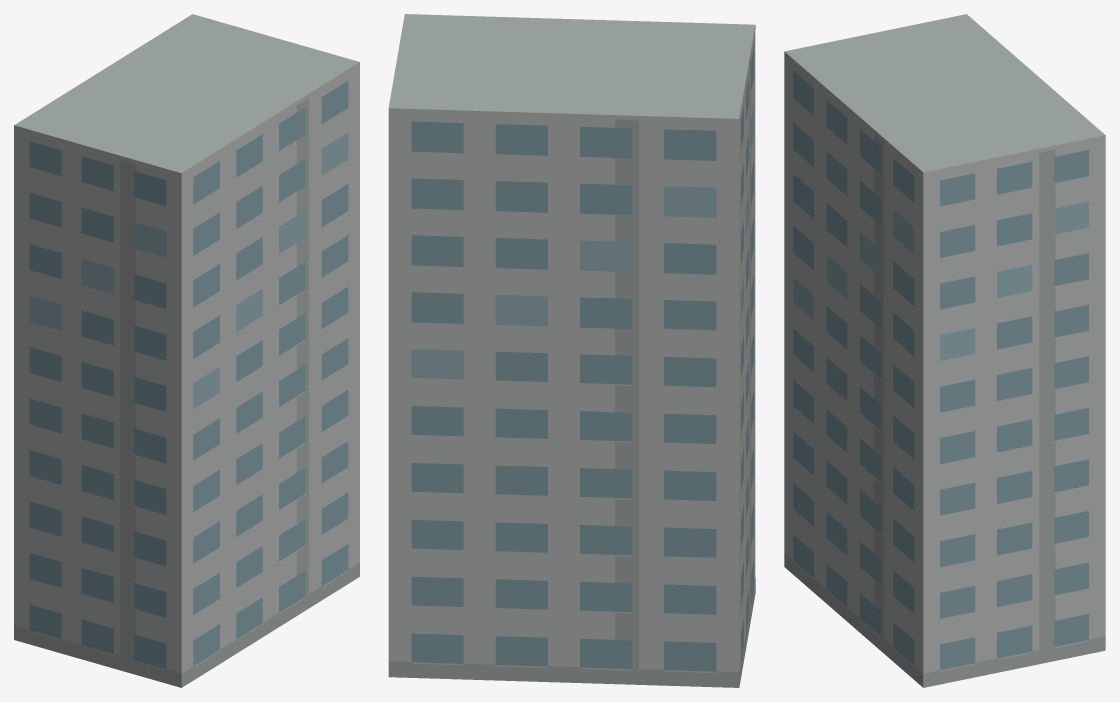
The model's file is residential-28146df2-0026-4000-a618-06c00b364e9a.glb.
The picture shows the model from 3 angles, left to right: view 1: azimuth 30°, elevation 25°; view 2: azimuth 150°, elevation 25°; view 3: azimuth 270°, elevation 25°; orthographic projection. The views are drawn at different scales.
Parts seen in each view (by area): view 1: residential-28146df2-0026-4000-a618-06c00b364e9a.tmp; view 2: residential-28146df2-0026-4000-a618-06c00b364e9a.tmp; view 3: residential-28146df2-0026-4000-a618-06c00b364e9a.tmp.
Boxes of the visible parts, x1,y1,x2,y2 form: residential-28146df2-0026-4000-a618-06c00b364e9a.tmp: (14,14,359,687); residential-28146df2-0026-4000-a618-06c00b364e9a.tmp: (388,14,755,687); residential-28146df2-0026-4000-a618-06c00b364e9a.tmp: (784,14,1105,687).
Bounding box in the file's own units: 20.45 × 31 × 17.52.
